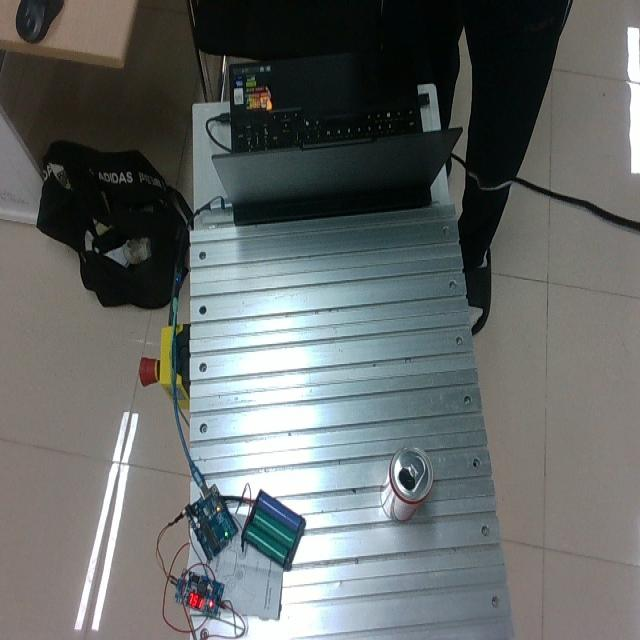coca: (382, 447, 432, 521)
